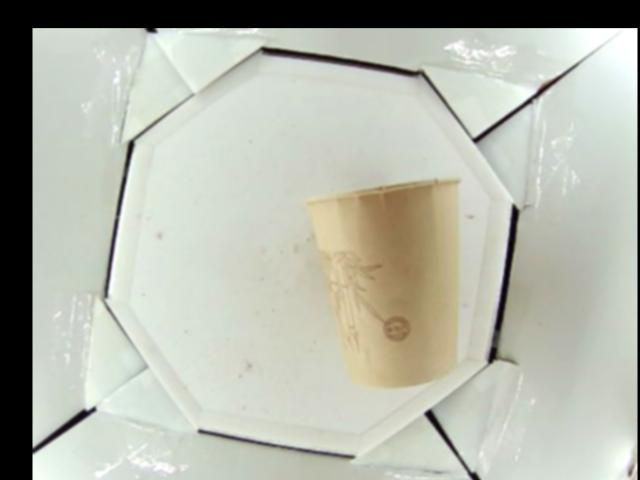Cup: (307, 177, 461, 387)
